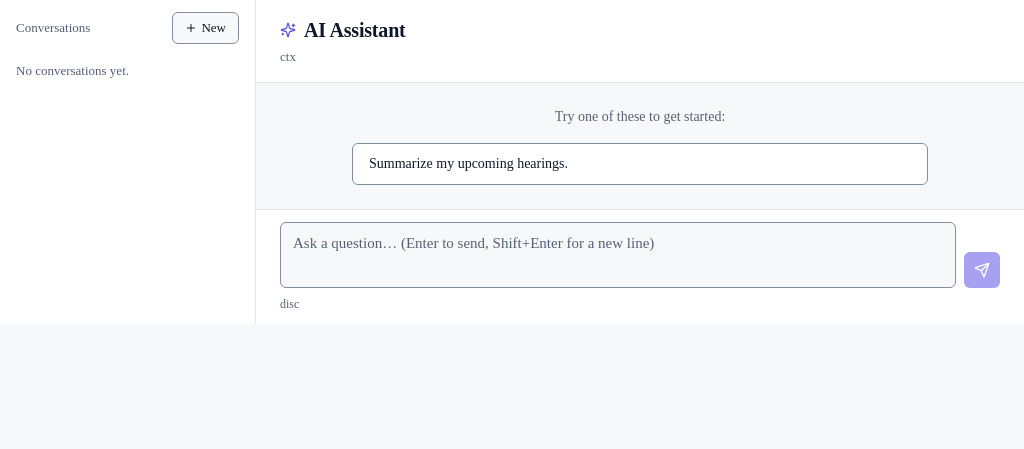
Test: AssistantChat › Retry re-sends the same prompt
Click the button "Summarize my upcoming hearings.". click: (469, 164)
box: x1=352 y1=143 x2=928 y2=185
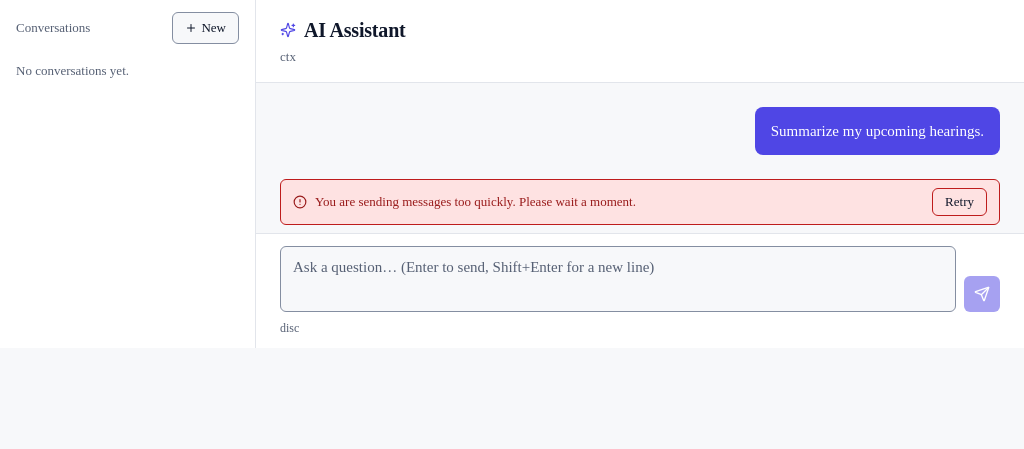
Click the button "Retry". click: (960, 202)
box: x1=932 y1=188 x2=987 y2=216
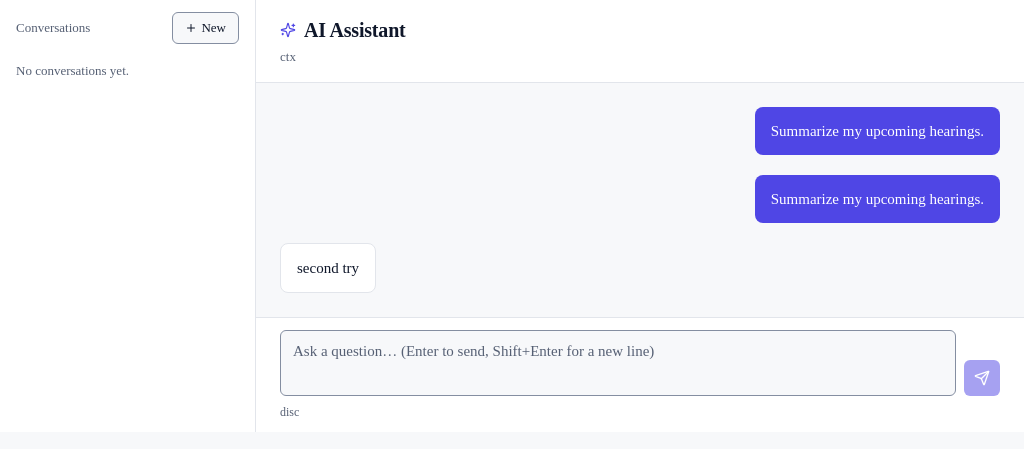
Now the text "second try" is shown, box x1=297 y1=256 x2=359 y2=280
